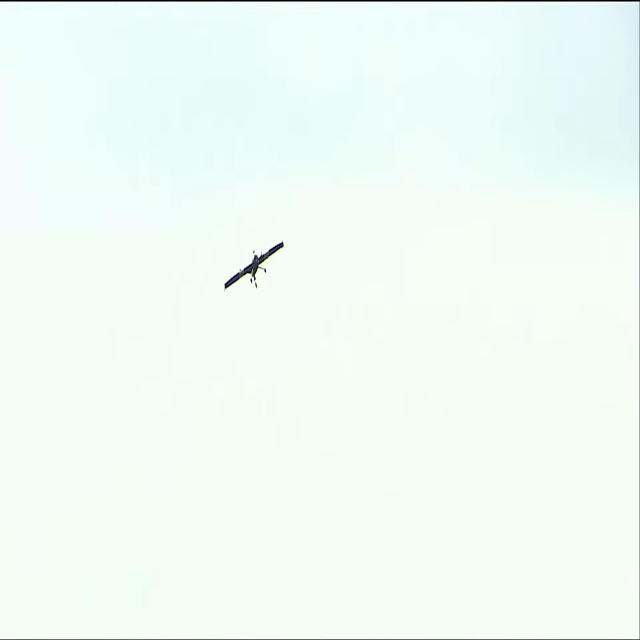iha: (222, 235, 284, 285)
